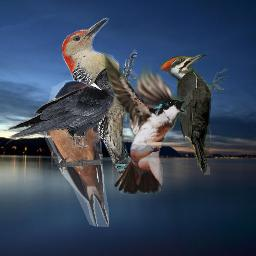Crow: (5, 67, 126, 153)
Swallow: (99, 48, 187, 194), (44, 80, 109, 227)
Woodpecker: (62, 16, 138, 191), (159, 53, 228, 175)
